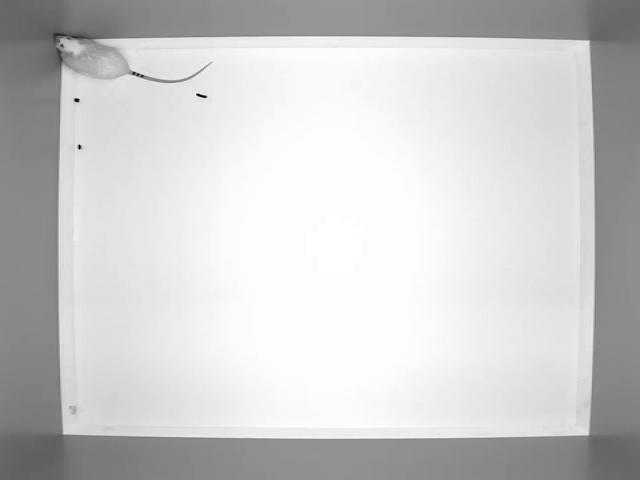Tikus: (51, 32, 214, 85)
